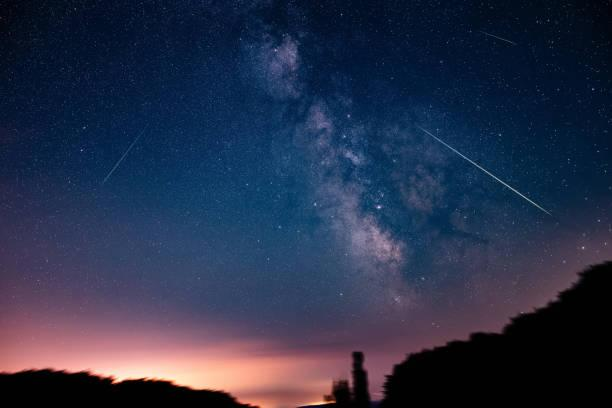meteor: (536, 206, 562, 223), (507, 38, 522, 50), (98, 175, 109, 188)
